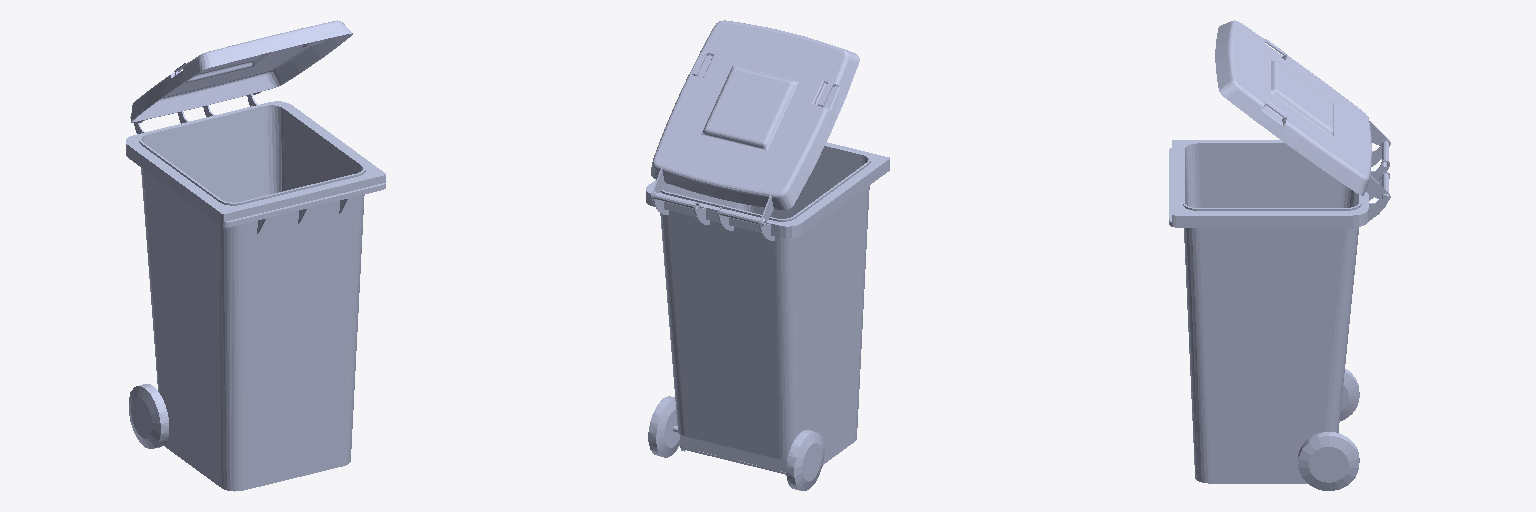
The robot description file, URDF, robot "bin-1":
<?xml version="1.0" encoding="utf-8"?>
<!-- This URDF was automatically created by SolidWorks to URDF Exporter! Originally created by [author] ([email redacted]) 
     Commit Version: 1.6.0-1-g15f4949  Build Version: 1.6.7594.29634
     For more information, please see http://wiki.ros.org/sw_urdf_exporter -->
<robot
  name="bin-1">
  <link
    name="base_link">
    <inertial>
      <origin
        xyz="0.175004570606052 0.268255743690188 0.535851434049264"
        rpy="0 0 0" />
      <mass
        value="22.6494356420243" />
      <inertia
        ixx="4.4601515183606"
        ixy="-3.38378418015312E-05"
        ixz="0.000595441888589197"
        iyy="4.44882720581725"
        iyz="0.0860424781173692"
        izz="1.79646026281296" />
    </inertial>
    <visual>
      <origin
        xyz="0 0 0"
        rpy="0 0 0" />
      <geometry>
        <mesh
          filename="package://bin-1/meshes/base_link.STL" />
      </geometry>
      <material
        name="">
        <color
          rgba="0.792156862745098 0.819607843137255 0.933333333333333 1" />
      </material>
    </visual>
    <collision>
      <origin
        xyz="0 0 0"
        rpy="0 0 0" />
      <geometry>
        <mesh
          filename="package://bin-1/meshes/base_link.STL" />
      </geometry>
    </collision>
  </link>

<gazebo reference="base_link">
    <material>Gazebo/Green</material>
</gazebo>

</robot>

--- Render facts (derived) ---
Views: 3 orthographic renders of the robot side by side, from view 1: azimuth 30°, elevation 25°; view 2: azimuth 150°, elevation 25°; view 3: azimuth 270°, elevation 25°.
Robot: bin-1 — 1 links, 0 joints (none); root link base_link; default pose: all joints at 0.
Links seen in each view (by area): view 1: base_link; view 2: base_link; view 3: base_link.
Link boxes in pixels (box(x1,y1,x2,y2)): base_link: box(126, 20, 385, 491); base_link: box(646, 20, 889, 490); base_link: box(1169, 20, 1390, 490).
Bounding box of the posed robot: 0.58 × 0.7162 × 1.45 m (x, y, z).
Meshes: 1 distinct files referenced, 1 mesh visuals loaded (1 binary STL).